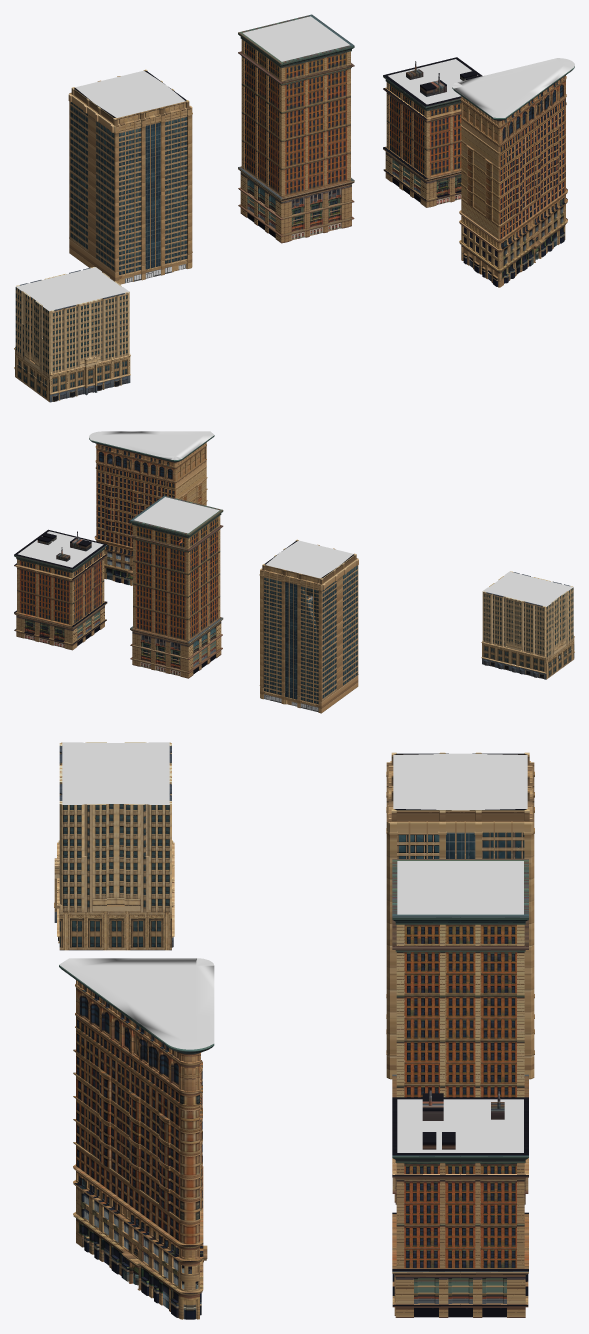
File: high rise buildings.fbx
3 views of the same model, one above another, from view 1: azimuth 30°, elevation 25°; view 2: azimuth 150°, elevation 25°; view 3: azimuth 270°, elevation 25° (orthographic). The views are drawn at different scales.
Parts seen in each view (by area): view 1: Downtown_ModernOffice_4, Downtown_ModernOffice_5, Downtown_Flatiron_1, Downtown_ClassicOffice_1, Downtown_ModernOffice_5_B; view 2: Downtown_ModernOffice_4, Downtown_ModernOffice_5, Downtown_Flatiron_1, Downtown_ModernOffice_5_B, Downtown_ClassicOffice_1; view 3: Downtown_Flatiron_1, Downtown_ModernOffice_5, Downtown_ModernOffice_5_B, Downtown_ClassicOffice_1, Downtown_ModernOffice_4.
Part boxes in pixels (bbox=[...]): Downtown_ModernOffice_4: bbox=[68, 69, 192, 284]; Downtown_ModernOffice_5: bbox=[238, 14, 354, 243]; Downtown_Flatiron_1: bbox=[452, 58, 574, 287]; Downtown_ClassicOffice_1: bbox=[14, 267, 130, 402]; Downtown_ModernOffice_5_B: bbox=[383, 57, 482, 207]; Downtown_ModernOffice_4: bbox=[259, 539, 358, 713]; Downtown_ModernOffice_5: bbox=[130, 495, 223, 678]; Downtown_Flatiron_1: bbox=[89, 431, 214, 585]; Downtown_ModernOffice_5_B: bbox=[14, 529, 107, 650]; Downtown_ClassicOffice_1: bbox=[481, 571, 574, 679]; Downtown_Flatiron_1: bbox=[59, 958, 214, 1319]; Downtown_ModernOffice_5: bbox=[392, 859, 528, 1204]; Downtown_ModernOffice_5_B: bbox=[392, 1087, 528, 1317]; Downtown_ClassicOffice_1: bbox=[54, 742, 174, 950]; Downtown_ModernOffice_4: bbox=[386, 752, 534, 1079].
Size of the model in its own units: 34379 by 10557 by 15879.
